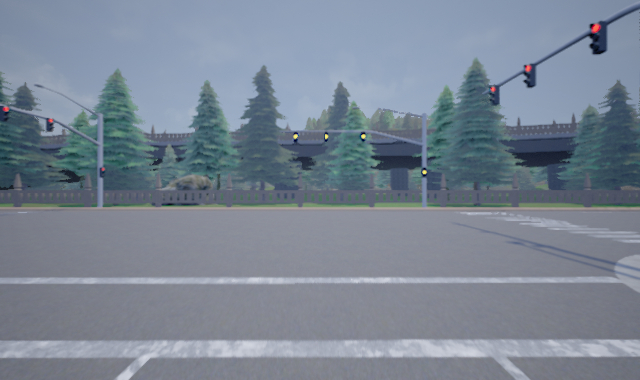pedestrian: (588, 21, 607, 54), (521, 62, 536, 89), (489, 84, 500, 106), (1, 105, 10, 123), (46, 117, 54, 132), (292, 129, 299, 143), (360, 131, 368, 142), (420, 167, 428, 177), (324, 129, 330, 142), (100, 167, 106, 179)
